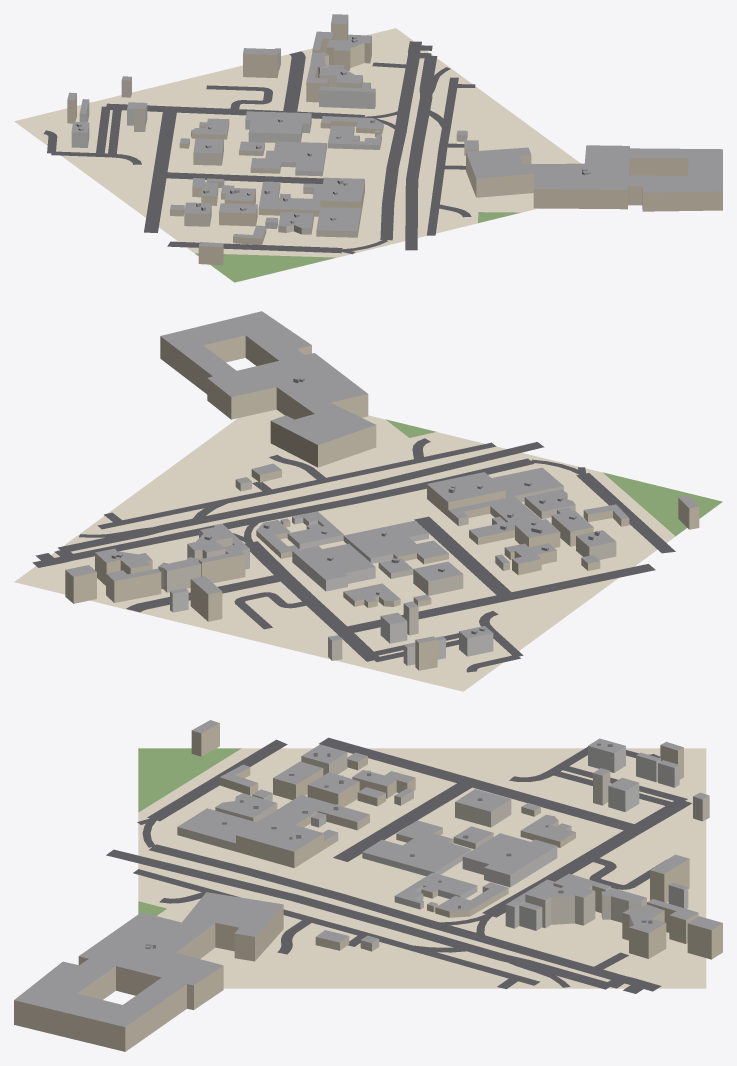
File: tile_-5_-5_far.glb
3 views of the same model, one above another, from view 1: azimuth 30°, elevation 25°; view 2: azimuth 150°, elevation 25°; view 3: azimuth 270°, elevation 25° (orthographic). The views are drawn at different scales.
Parts seen in each view (by area): view 1: nature_ground, buildings_roof, roads_asphalt, buildings_sandstone, buildings_concrete_light, buildings_concrete_warm, nature_grass; view 2: nature_ground, buildings_roof, roads_asphalt, buildings_sandstone, buildings_concrete_warm, buildings_concrete_light, nature_grass; view 3: nature_ground, buildings_roof, roads_asphalt, buildings_sandstone, buildings_concrete_warm, buildings_concrete_light, nature_grass.
Part boxes in pixels (left/top/right/bottom): nature_ground: left=14, top=28, right=580, bottom=282; buildings_roof: left=67, top=14, right=722, bottom=246; roads_asphalt: left=43, top=41, right=475, bottom=254; buildings_sandstone: left=67, top=16, right=722, bottom=265; buildings_concrete_light: left=71, top=49, right=381, bottom=228; buildings_concrete_warm: left=121, top=55, right=467, bottom=237; nature_grass: left=195, top=212, right=520, bottom=282; nature_ground: left=14, top=409, right=719, bottom=691; buildings_roof: left=65, top=311, right=698, bottom=647; roads_asphalt: left=32, top=438, right=675, bottom=672; buildings_sandstone: left=65, top=335, right=699, bottom=670; buildings_concrete_warm: left=158, top=480, right=616, bottom=660; buildings_concrete_light: left=170, top=510, right=560, bottom=665; nature_grass: left=386, top=419, right=722, bottom=536; nature_ground: left=138, top=748, right=706, bottom=988; buildings_roof: left=14, top=720, right=722, bottom=1027; roads_asphalt: left=106, top=737, right=691, bottom=993; buildings_sandstone: left=14, top=723, right=722, bottom=1051; buildings_concrete_warm: left=177, top=752, right=709, bottom=951; buildings_concrete_light: left=252, top=746, right=688, bottom=930; nature_grass: left=138, top=748, right=241, bottom=915.
Bounding box in the file's own units: 327 × 14.99 × 312.
